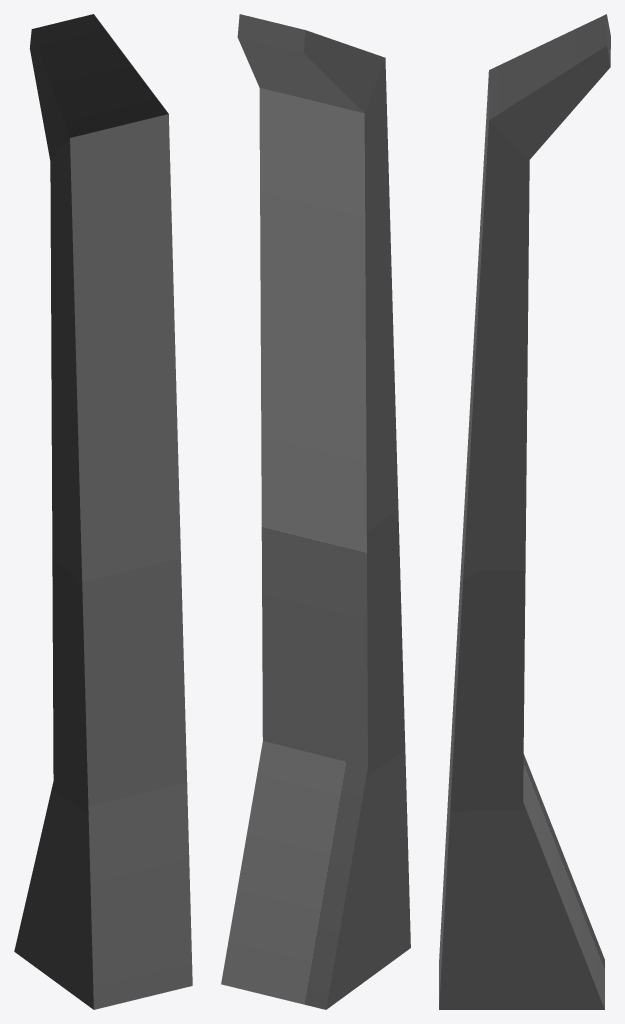
The model's file is stat_arm0.glb.
The picture shows the model from 3 angles, left to right: view 1: azimuth 30°, elevation 25°; view 2: azimuth 150°, elevation 25°; view 3: azimuth 270°, elevation 25°; orthographic projection. The views are drawn at different scales.
Parts seen in each view (by area): view 1: group_13; view 2: group_13; view 3: group_13.
Boxes of the visible parts, x1,y1,x2,y2 form: group_13: (14,14,192,1009); group_13: (221,14,410,1009); group_13: (439,14,610,1009).
Bounding box in the file's own units: 2509 × 22248 × 3625.
1 material, 1 textured.
